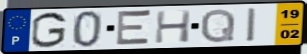0: (71, 10, 105, 49)
E: (114, 9, 154, 47)
G: (30, 11, 69, 49)
H: (153, 9, 194, 45)
I: (246, 6, 258, 43)
Q: (198, 8, 237, 45)
